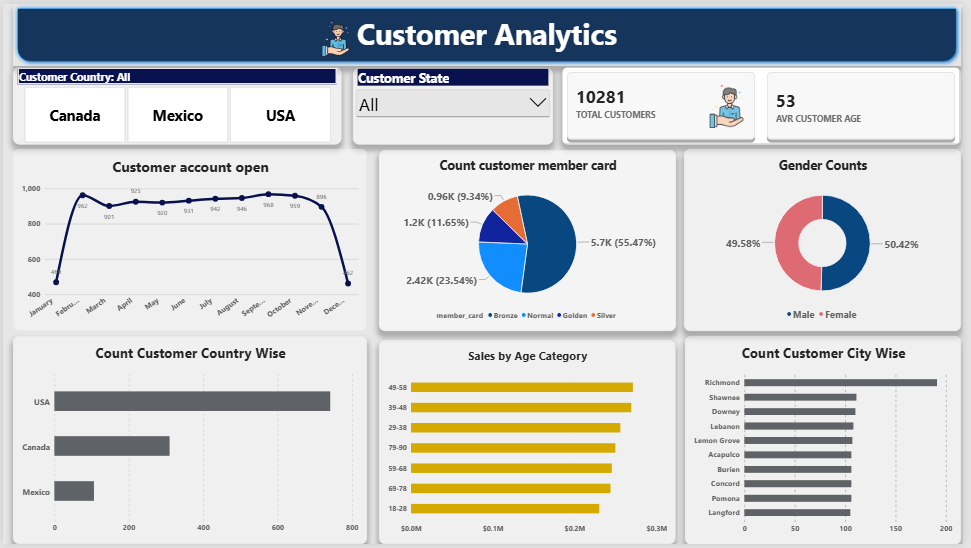

This screenshot's page, from the dashboard's own definition file:
{"tool":"powerbi","page":{"name":"Customer Analytics Dashborad","canvas":[1920,1080],"ordinal":0},"visuals":[{"type":"shape","box":[19.6,0,1895.7,123.9],"z":0},{"type":"cardVisual","fields":{"Data":["Customers.TOTAL CUSTOMERS","Customers.AVR CUSTOMER AGE"]},"box":[1118.3,125.4,797.2,155.2],"z":1000},{"type":"donutChart","title":"Gender Counts","fields":{"Category":["Customers.gender"],"Y":["CountNonNull(Customers.customer_id)"]},"box":[1362.6,290.3,553.5,363.9],"z":2000},{"type":"clusteredBarChart","title":"Count Customer City Wise","fields":{"Category":["Customers.customer_city"],"Y":["CountNonNull(Customers.customer_id)"]},"box":[1363,663,552.2,417.4],"z":3000},{"type":"clusteredBarChart","title":"Count Customer Country Wise","fields":{"Category":["Customers.customer_country"],"Y":["CountNonNull(Customers.customer_id)"]},"box":[19.4,663.9,708.4,416.1],"z":4000},{"type":"image","box":[629.3,21.3,70.2,95.7],"z":5000},{"type":"slicer","fields":{"Values":["Customers.customer_country"]},"box":[19.1,125.4,656.9,155.2],"z":6000},{"type":"slicer","fields":{"Values":["Customers.customer_country"]},"box":[699.4,127.6,399.7,153.1],"z":7000},{"type":"pieChart","title":"Count customer member card","fields":{"Category":["Customers.member_card"],"Series":["Customers.member_card"],"Y":["CountNonNull(Customers.customer_id)"]},"box":[752.9,292.3,594.2,361.9],"z":8000},{"type":"lineChart","title":"Customer account open","fields":{"Category":["Customers.acct_open_date.Variation.Date Hierarchy.Month"],"Y":["CountNonNull(Customers.customer_id)"]},"box":[19.4,290.3,708.4,363.9],"z":9000},{"type":"barChart","title":"Sales by Age Category","fields":{"Category":["Customers.age_category"],"Y":["Sum(Transactions.sp)"]},"box":[752.6,671.8,593.1,408.2],"z":10000}]}

Visuals, with their boxes in screenshot pixels (x1, y1, x2, y2), scaled from the page's 1920x1080 canvas onto the 971x548 screenshot:
shape: [10,0,969,63]
cardVisual - Customers.TOTAL CUSTOMERS x Customers.AVR CUSTOMER AGE: [566,64,969,142]
"Gender Counts" donutChart: [689,147,969,332]
"Count Customer City Wise" clusteredBarChart: [689,336,969,547]
"Count Customer Country Wise" clusteredBarChart: [10,337,368,547]
image: [318,11,354,59]
slicer - Customers.customer_country: [10,64,342,142]
slicer - Customers.customer_country: [354,65,556,142]
"Count customer member card" pieChart: [381,148,681,332]
"Customer account open" lineChart: [10,147,368,332]
"Sales by Age Category" barChart: [381,341,681,547]
